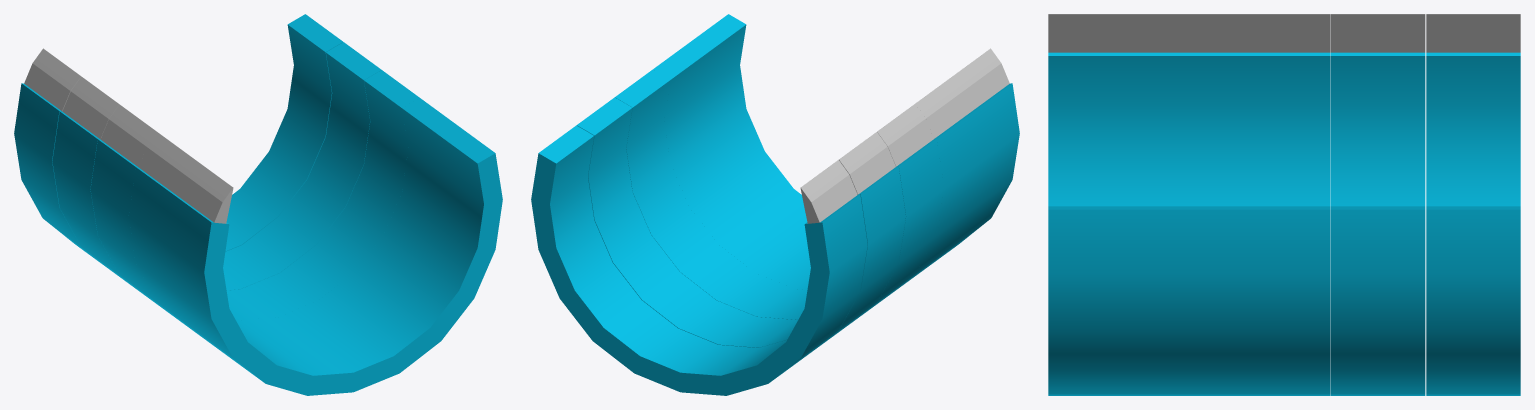
3 renders of one model, left to right at view 1: azimuth 30°, elevation 25°; view 2: azimuth 150°, elevation 25°; view 3: azimuth 270°, elevation 25°, orthographic. The views are drawn at different scales.
Visible parts, largest first — view 1: pPipe1, pPipe2, pPipe3, pPipe4, pPipe5; view 2: pPipe5, pPipe4, pPipe3, pPipe2, pPipe1; view 3: pPipe2, pPipe3, pPipe4, pPipe5, pPipe1.
Boxes of the visible parts, x1,y1,x2,y2 form: pPipe1: [166, 125, 502, 395]; pPipe2: [128, 98, 457, 353]; pPipe3: [90, 70, 419, 326]; pPipe4: [52, 42, 381, 298]; pPipe5: [14, 14, 342, 270]; pPipe5: [531, 125, 867, 395]; pPipe4: [576, 97, 905, 352]; pPipe3: [615, 69, 943, 325]; pPipe2: [653, 42, 981, 298]; pPipe1: [691, 14, 1019, 270]; pPipe2: [1142, 14, 1236, 395]; pPipe3: [1236, 14, 1330, 395]; pPipe4: [1331, 14, 1425, 395]; pPipe5: [1426, 14, 1520, 395]; pPipe1: [1048, 14, 1142, 395].
Bounding box in the file's own units: 7.94 × 5.94 × 8.75.
